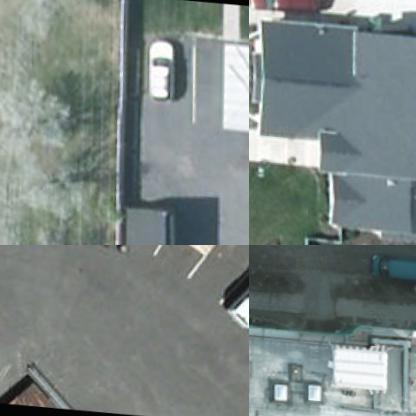car: (138, 38, 178, 103), (249, 0, 329, 17)
van: (211, 268, 248, 337), (362, 248, 415, 286)
